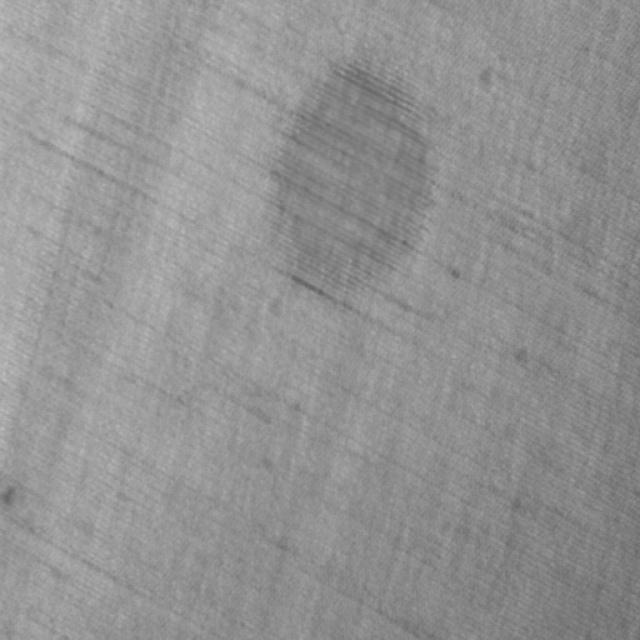oil spot: (271, 51, 430, 295)
